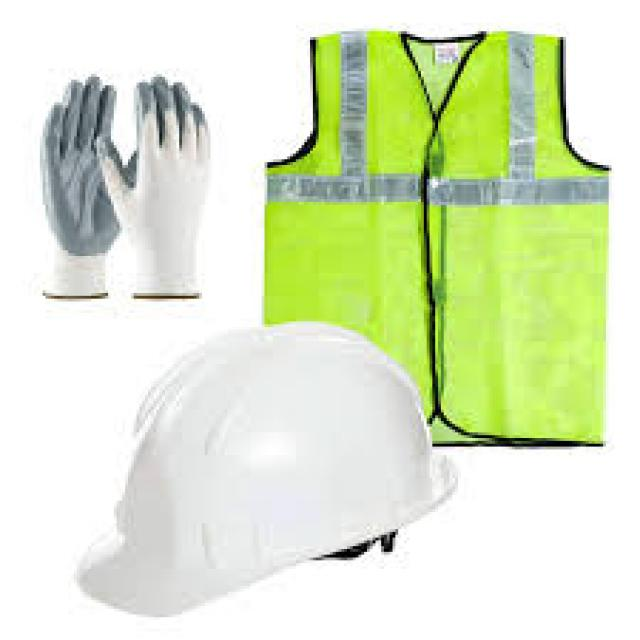Reflective-Jacket: (239, 14, 640, 464)
Safety-Helmet: (63, 313, 477, 629)
